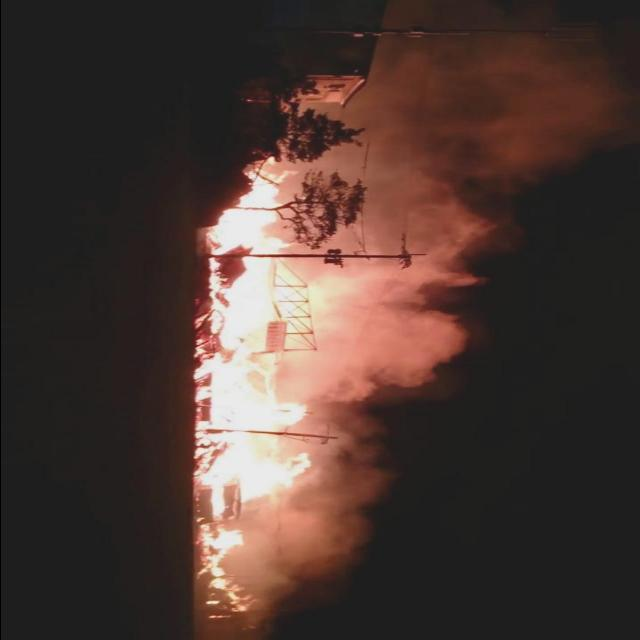Fire: (200, 150, 306, 621)
